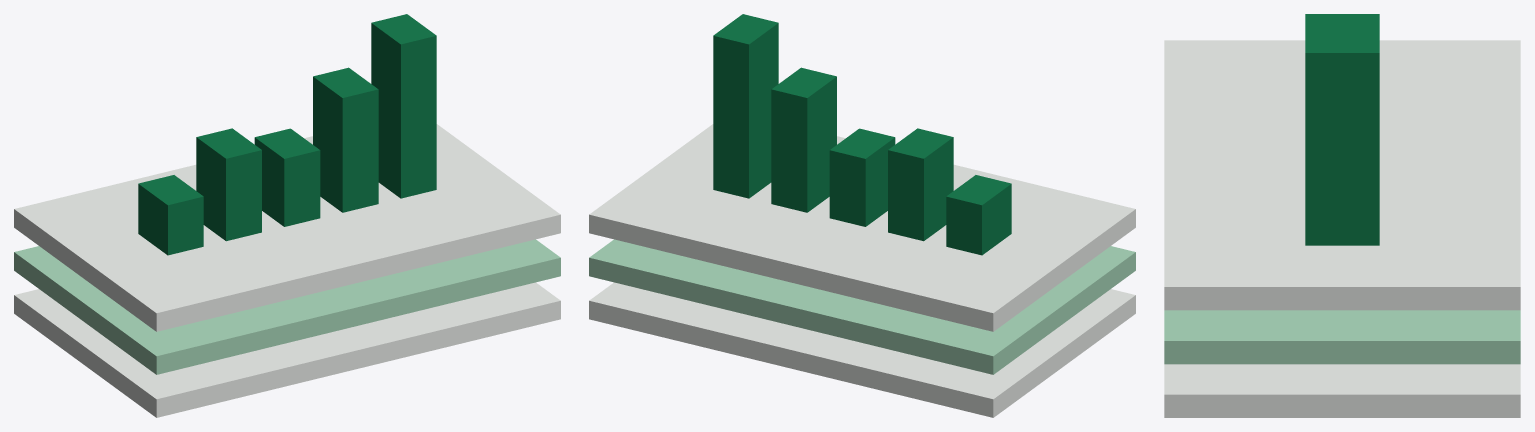
Rendered from ezymap-signal-stack.obj.
The picture shows the model from 3 angles, left to right: view 1: azimuth 30°, elevation 25°; view 2: azimuth 150°, elevation 25°; view 3: azimuth 270°, elevation 25°; orthographic projection. The views are drawn at different scales.
Visible parts, largest first — view 1: plate_2, plate_0, plate_1, bar_4, bar_3, bar_1, bar_2, bar_0; view 2: plate_2, plate_0, plate_1, bar_4, bar_3, bar_1, bar_2, bar_0; view 3: plate_2, plate_1, plate_0, bar_4, bar_1.
Part boxes in pixels (x1,y1,x2,y2): plate_2: [14, 124, 560, 331]; plate_0: [14, 282, 560, 417]; plate_1: [14, 239, 560, 374]; bar_4: [371, 14, 436, 198]; bar_3: [313, 67, 378, 212]; bar_1: [196, 128, 261, 241]; bar_2: [254, 128, 320, 226]; bar_0: [138, 175, 203, 255]; plate_2: [589, 124, 1135, 331]; plate_0: [589, 282, 1135, 417]; plate_1: [589, 239, 1135, 374]; bar_4: [713, 14, 778, 198]; bar_3: [771, 67, 836, 212]; bar_1: [888, 128, 953, 241]; bar_2: [829, 128, 895, 226]; bar_0: [946, 175, 1011, 255]; plate_2: [1164, 40, 1520, 310]; plate_1: [1164, 310, 1520, 364]; plate_0: [1164, 364, 1520, 417]; bar_4: [1305, 31, 1379, 245]; bar_1: [1305, 14, 1379, 30].
Size of the model in its own units: 1.18 by 0.722 by 0.72.
